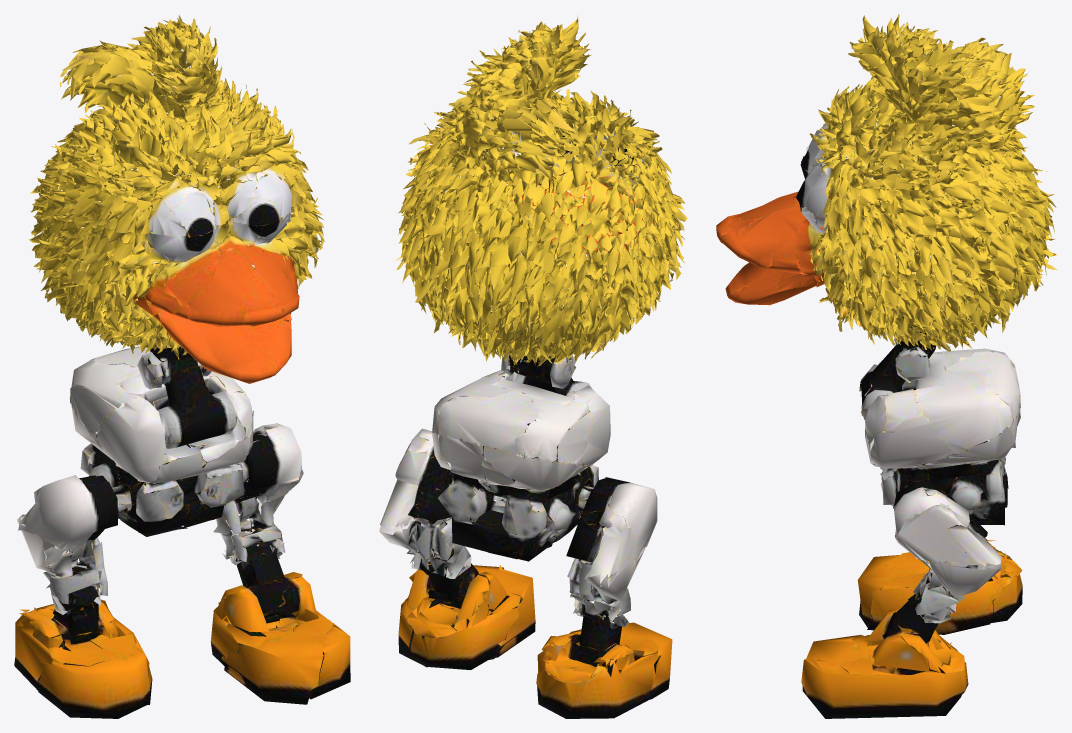
The model's file is puddles.glb.
3 views of the same model, side by side, from view 1: azimuth 30°, elevation 25°; view 2: azimuth 150°, elevation 25°; view 3: azimuth 270°, elevation 25° (orthographic). The views are drawn at different scales.
Parts seen in each view (by area): view 1: PD_Body, PD_Foot_R, PD_Foot_L, PD_Shin_R, PD_Thigh_L, PD_Thigh_R, PD_Shin_L; view 2: PD_Body, PD_Foot_R, PD_Foot_L, PD_Shin_R, PD_Shin_L, PD_Thigh_R, PD_Thigh_L; view 3: PD_Body, PD_Foot_R, PD_Foot_L, PD_Shin_R, PD_Thigh_R.
Part boxes in pixels (bbox=[...]): PD_Body: bbox=[18, 15, 324, 553]; PD_Foot_R: bbox=[210, 592, 350, 704]; PD_Foot_L: bbox=[14, 604, 152, 718]; PD_Shin_R: bbox=[215, 544, 316, 632]; PD_Thigh_L: bbox=[17, 514, 107, 606]; PD_Thigh_R: bbox=[213, 479, 285, 565]; PD_Shin_L: bbox=[19, 575, 117, 664]; PD_Body: bbox=[380, 15, 687, 587]; PD_Foot_R: bbox=[398, 565, 535, 669]; PD_Foot_L: bbox=[536, 622, 672, 718]; PD_Shin_R: bbox=[406, 551, 507, 626]; PD_Shin_L: bbox=[541, 599, 634, 676]; PD_Thigh_R: bbox=[379, 492, 470, 578]; PD_Thigh_L: bbox=[567, 547, 644, 621]; PD_Body: bbox=[716, 14, 1057, 570]; PD_Foot_R: bbox=[801, 634, 968, 718]; PD_Foot_L: bbox=[857, 542, 1022, 634]; PD_Shin_R: bbox=[865, 596, 954, 672]; PD_Thigh_R: bbox=[908, 560, 1001, 621].
Bounding box in the file's own units: 1.07 × 2.59 × 1.25.
Materials: 1 (1 with a texture image).
